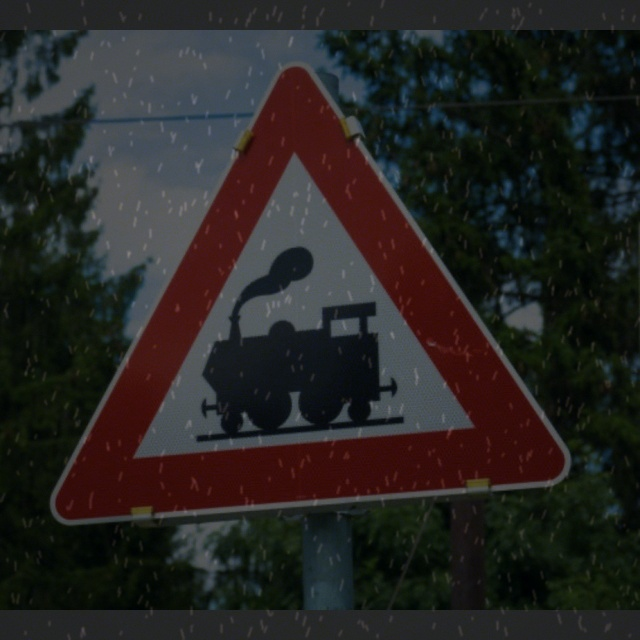Unguarded_Level_Crossing: (69, 66, 559, 512)
